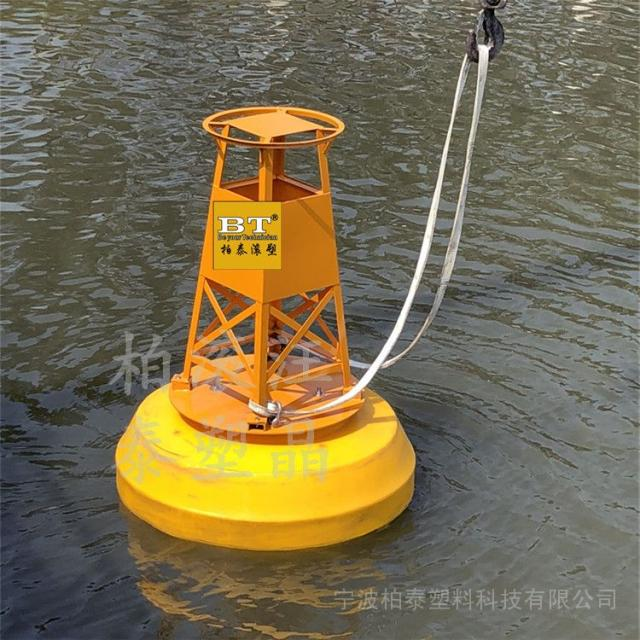buoy: (110, 91, 424, 554)
